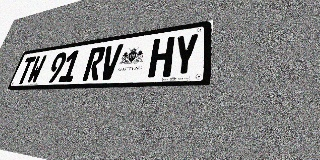1: (58, 50, 82, 82)
9: (46, 52, 68, 83)
H: (148, 36, 175, 78)
R: (82, 46, 107, 81)
T: (16, 56, 37, 84)
V: (98, 44, 123, 80)
W: (26, 55, 47, 84)
Y: (171, 33, 199, 77)
